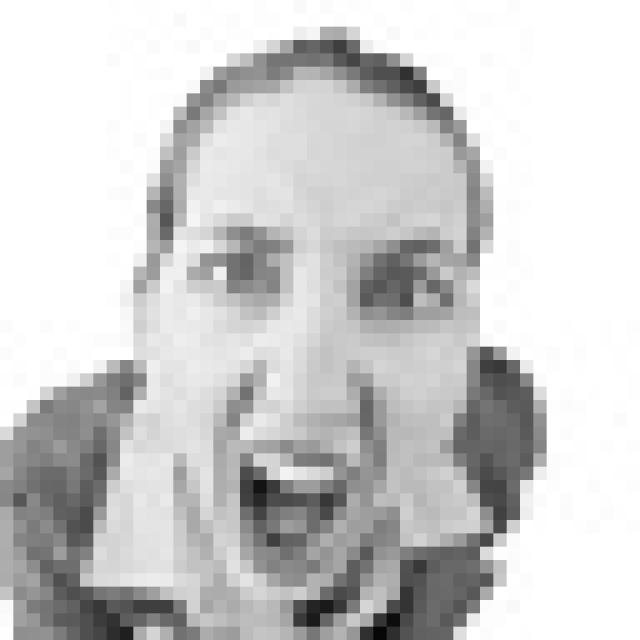angry: (168, 213, 464, 590)
